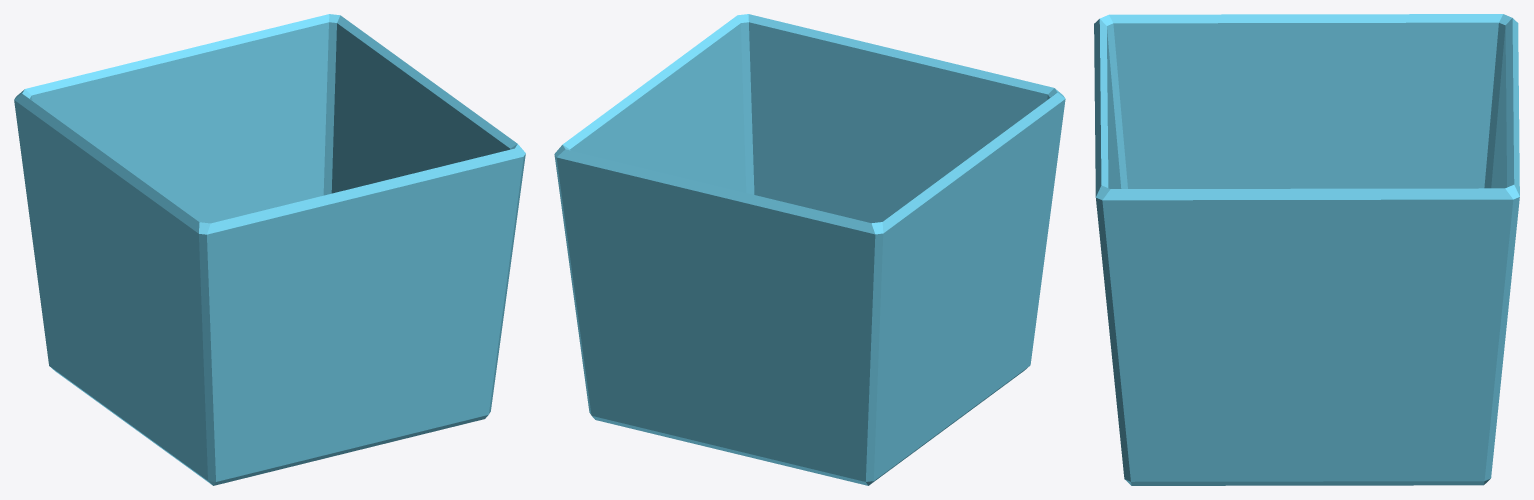
File: Piggy Bank-Gift Box-Blue-Empty.fbx
The picture shows the model from 3 angles, left to right: view 1: azimuth 30°, elevation 25°; view 2: azimuth 150°, elevation 25°; view 3: azimuth 270°, elevation 25°; orthographic projection. The views are drawn at different scales.
Visible parts, largest first — view 1: Piggy Bank-Gift Box-Under; view 2: Piggy Bank-Gift Box-Under; view 3: Piggy Bank-Gift Box-Under.
Boxes of the visible parts, x1,y1,x2,y2 form: Piggy Bank-Gift Box-Under: [14, 14, 525, 485]; Piggy Bank-Gift Box-Under: [554, 14, 1065, 485]; Piggy Bank-Gift Box-Under: [1094, 14, 1519, 485].
Bounding box in the file's own units: 27.01 × 21.67 × 27.01.
